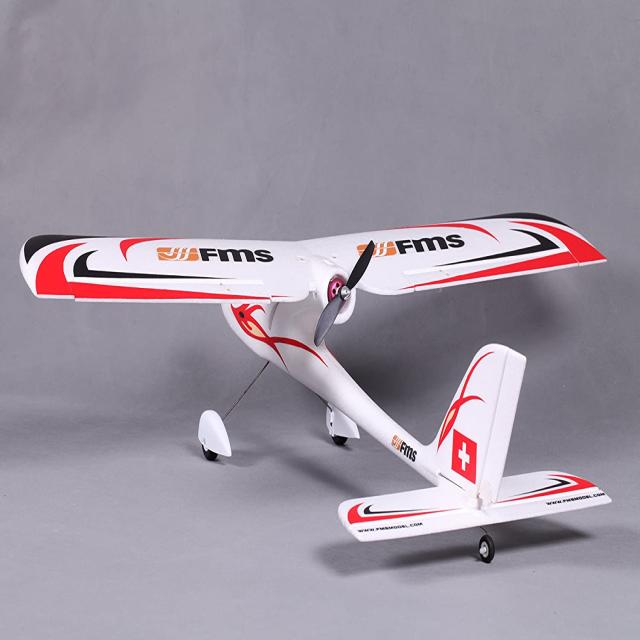iha: (18, 212, 617, 565)
